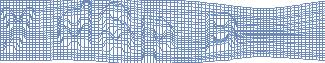B: (204, 12, 237, 52)
P: (140, 13, 175, 63)
S: (95, 1, 134, 56)
d: (55, 1, 94, 49)
y: (1, 5, 36, 55)
